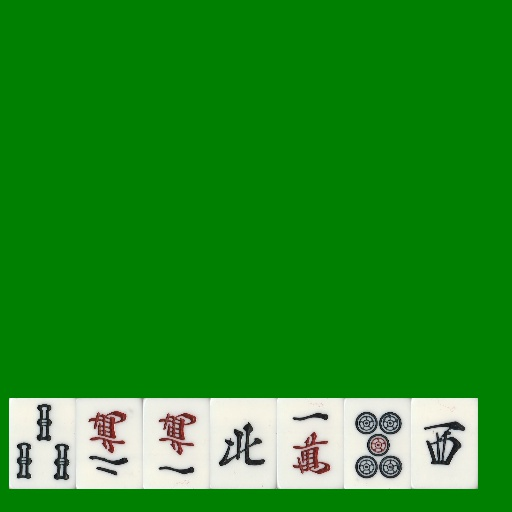1m: (143, 398, 210, 489), (277, 398, 344, 489)
2m: (76, 398, 143, 489)
3s: (9, 398, 76, 489)
5p: (344, 398, 411, 489)
north: (210, 398, 277, 489)
west: (411, 398, 478, 489)
